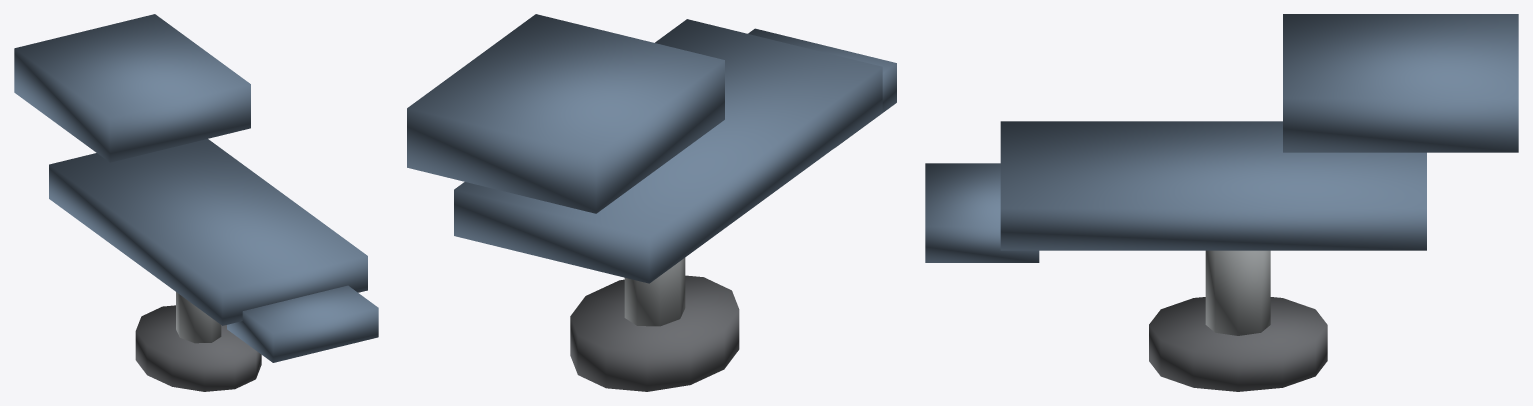
Rendered from dentist_chair__deep.glb.
3 renders of one model, left to right at view 1: azimuth 30°, elevation 25°; view 2: azimuth 150°, elevation 25°; view 3: azimuth 270°, elevation 25°, orthographic. The views are drawn at different scales.
Parts seen in each view (by area): view 1: world; view 2: world; view 3: world.
Boxes of the visible parts, x1,y1,x2,y2 form: world: (14,14,378,391); world: (407,14,896,391); world: (925,14,1518,391).
Size of the model in its own units: 0.62 by 1.01 by 1.78.
